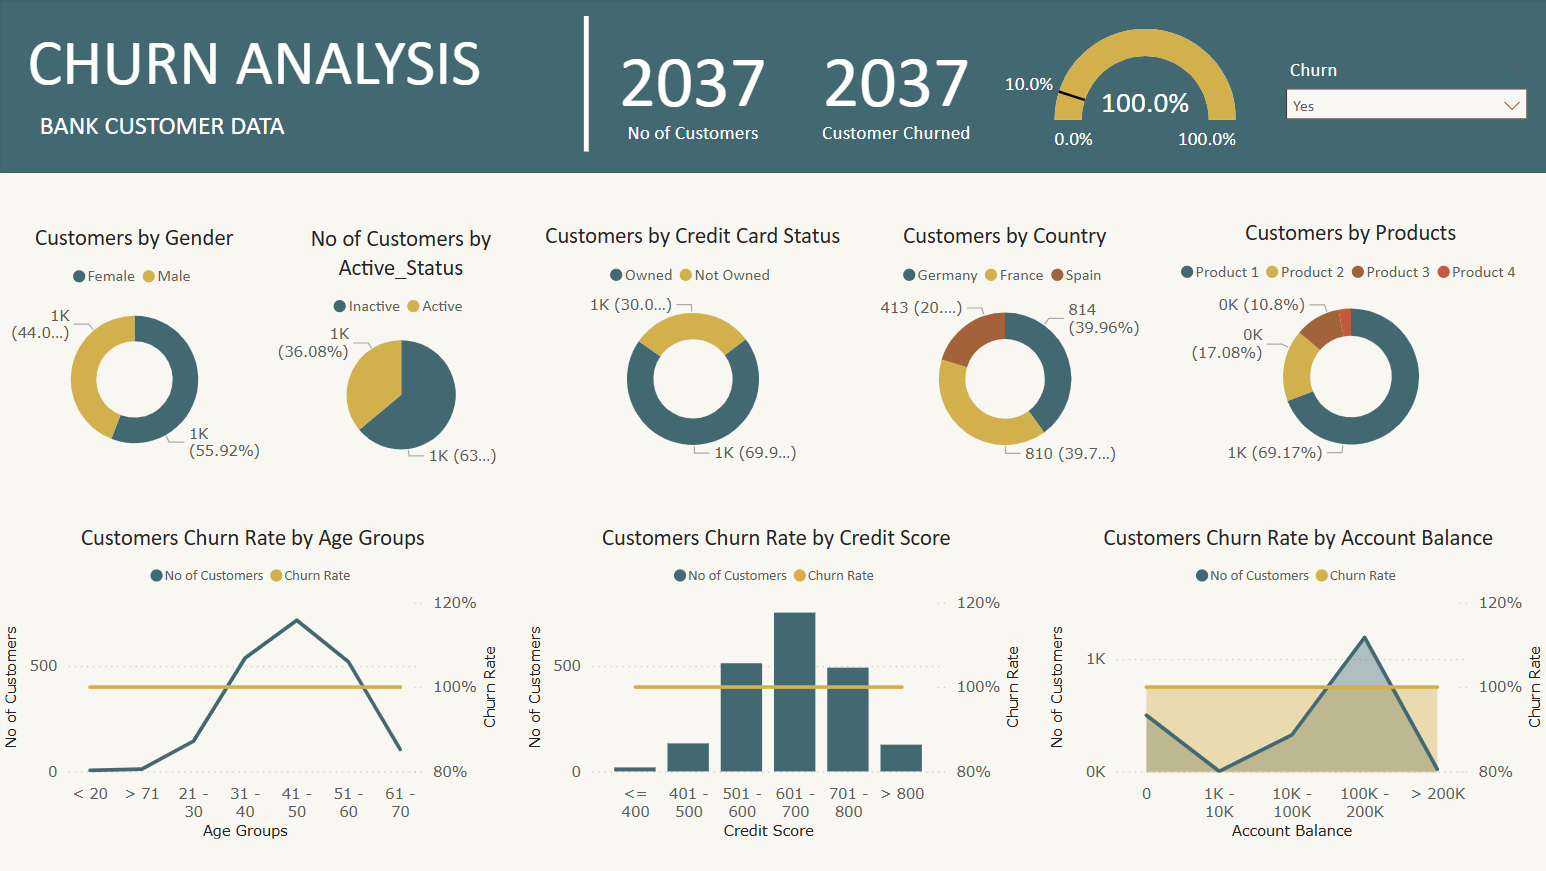

This screenshot's page, from the dashboard's own definition file:
{"tool":"powerbi","page":{"name":"Page 1","canvas":[1280,720],"ordinal":0},"visuals":[{"type":"shape","box":[0,0,1280,144.3],"z":0},{"type":"card","fields":{"Values":["Customer_Churn_Data.No of Customers"]},"box":[477.1,3.6,188.6,137.1],"z":1000},{"type":"card","fields":{"Values":["Customer_Churn_Data.Customer Churned"]},"box":[652.9,3.6,172.9,137.1],"z":2000},{"type":"donutChart","title":"Customers by Gender","fields":{"Category":["Customer_Churn_Data.Gender"],"Y":["Customer_Churn_Data.No of Customers"]},"box":[0.4,185.8,222.6,204.4],"z":3000},{"type":"pieChart","fields":{"Category":["Customer_Churn_Data.Active_Status"],"Y":["Customer_Churn_Data.No of Customers"]},"box":[220.4,186.4,222,204],"z":4000},{"type":"donutChart","title":"Customers by Country","fields":{"Y":["Customer_Churn_Data.No of Customers"],"Category":["Customer_Churn_Data.Country"]},"box":[695,184.6,268,205.9],"z":5000},{"type":"donutChart","title":"Customers by Products","fields":{"Y":["Customer_Churn_Data.No of Customers"],"Category":["Customer_Churn_Data.Products"]},"box":[953.2,182.1,321.4,207.1],"z":6000},{"type":"lineChart","title":"Customers Churn Rate by Age Groups","fields":{"Category":["Age Groups.Age Groups"],"Y2":["Customer_Churn_Data.Churn Rate"],"Y":["Customer_Churn_Data.No of Customers"]},"box":[0.1,432.7,417.9,265],"z":7000},{"type":"lineStackedColumnComboChart","title":"Customers Churn Rate by Age Groups","fields":{"Y2":["Customer_Churn_Data.Churn Rate"],"Y":["Customer_Churn_Data.No of Customers"],"Category":["Credit score Group.Credit Score"]},"box":[430.9,432.7,417.9,265],"z":8000},{"type":"areaChart","title":"Customers Churn Rate by Age Groups","fields":{"Category":["Account Balance Group.Account Balance"],"Y2":["Customer_Churn_Data.Churn Rate"],"Y":["Customer_Churn_Data.No of Customers"]},"box":[861.7,432.7,417.9,265],"z":9000},{"type":"slicer","fields":{"Values":["Customer_Churn_Data.Churn"]},"box":[1050,43.6,218.6,74.3],"z":10000},{"type":"gauge","title":"Overall Churn Rate","fields":{"Y":["Customer_Churn_Data.Churn Rate"],"TargetValue":["Max(Customer_Churn_Data.Target Churn Rate)"],"MaxValue":["Max(Customer_Churn_Data.Max Churn Rate )"],"MinValue":["Min(Customer_Churn_Data.Min Churn Rate)"]},"box":[818.6,13.6,205.7,127.1],"z":11000},{"type":"donutChart","title":"Customers by Credit Card Status","fields":{"Y":["Customer_Churn_Data.No of Customers"],"Category":["Customer_Churn_Data.Credit_Card"]},"box":[442.4,184.4,258,206],"z":12000},{"type":"textbox","box":[19,14.3,410,77.1],"z":13000},{"type":"textbox","box":[28.7,86,260,40],"z":14000},{"type":"shape","box":[465,15,38.3,111.7],"z":15000}]}

Visuals, with their boxes in screenshot pixels (x1, y1, x2, y2), scaled from the page's 1280x720 canvas onto the 1546x871 screenshot:
shape: (x1=0, y1=0, x2=1545, y2=175)
card - Customer_Churn_Data.No of Customers: (x1=576, y1=4, x2=804, y2=170)
card - Customer_Churn_Data.Customer Churned: (x1=789, y1=4, x2=997, y2=170)
"Customers by Gender" donutChart: (x1=0, y1=225, x2=269, y2=472)
pieChart - Customer_Churn_Data.Active_Status x Customer_Churn_Data.No of Customers: (x1=266, y1=225, x2=534, y2=472)
"Customers by Country" donutChart: (x1=839, y1=223, x2=1163, y2=472)
"Customers by Products" donutChart: (x1=1151, y1=220, x2=1539, y2=471)
"Customers Churn Rate by Age Groups" lineChart: (x1=0, y1=523, x2=505, y2=844)
"Customers Churn Rate by Age Groups" lineStackedColumnComboChart: (x1=520, y1=523, x2=1025, y2=844)
"Customers Churn Rate by Age Groups" areaChart: (x1=1041, y1=523, x2=1545, y2=844)
slicer - Customer_Churn_Data.Churn: (x1=1268, y1=53, x2=1532, y2=143)
"Overall Churn Rate" gauge: (x1=989, y1=16, x2=1237, y2=170)
"Customers by Credit Card Status" donutChart: (x1=534, y1=223, x2=846, y2=472)
textbox: (x1=23, y1=17, x2=518, y2=111)
textbox: (x1=35, y1=104, x2=349, y2=152)
shape: (x1=562, y1=18, x2=608, y2=153)
